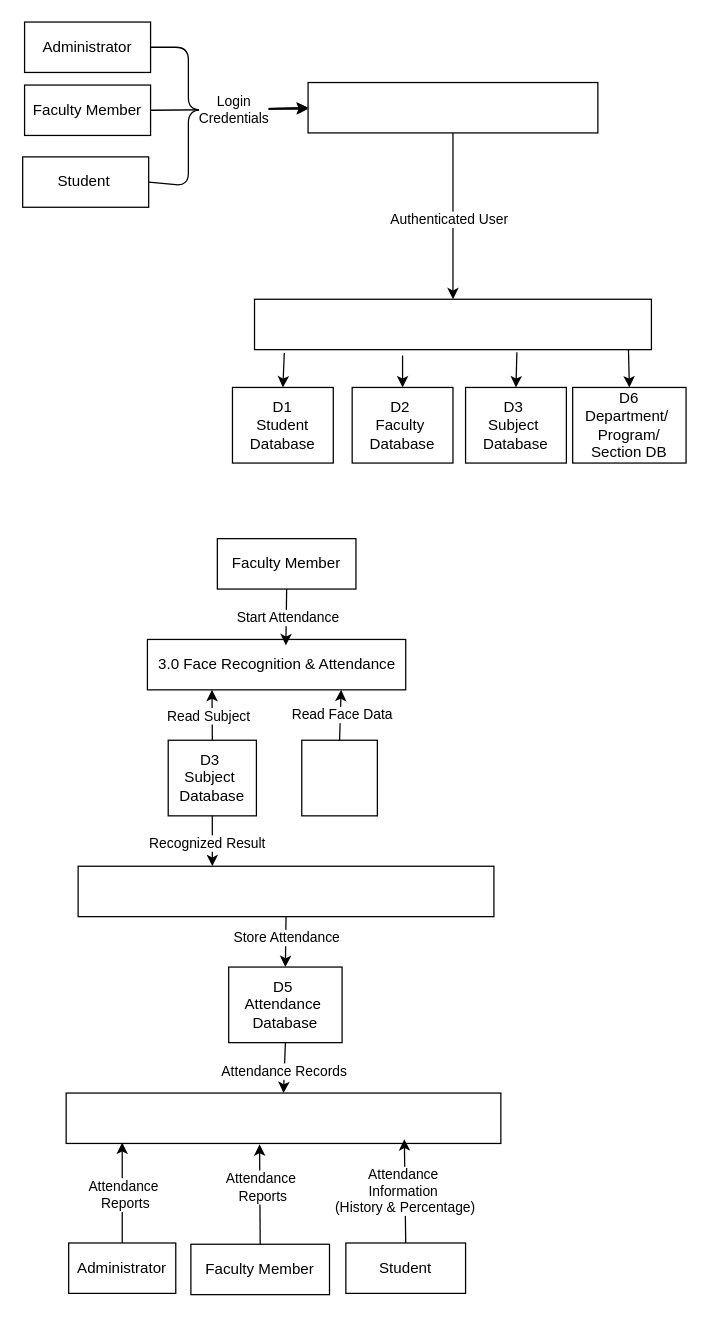
The diagram is 708 pixels wide and 1317 high, and some of its shapes have lost their labels. Here are the shapes that lost their labels. From the top down, the centre of each, then its label:
At point (452, 107): "1.0 Authentication".
At point (452, 324): "2.0 User & Academic Management".
At point (339, 777): "D4 Face Data".
At point (285, 891): "4.0 Attendance Management".
At point (283, 1117): "5.0 Report Generation".
